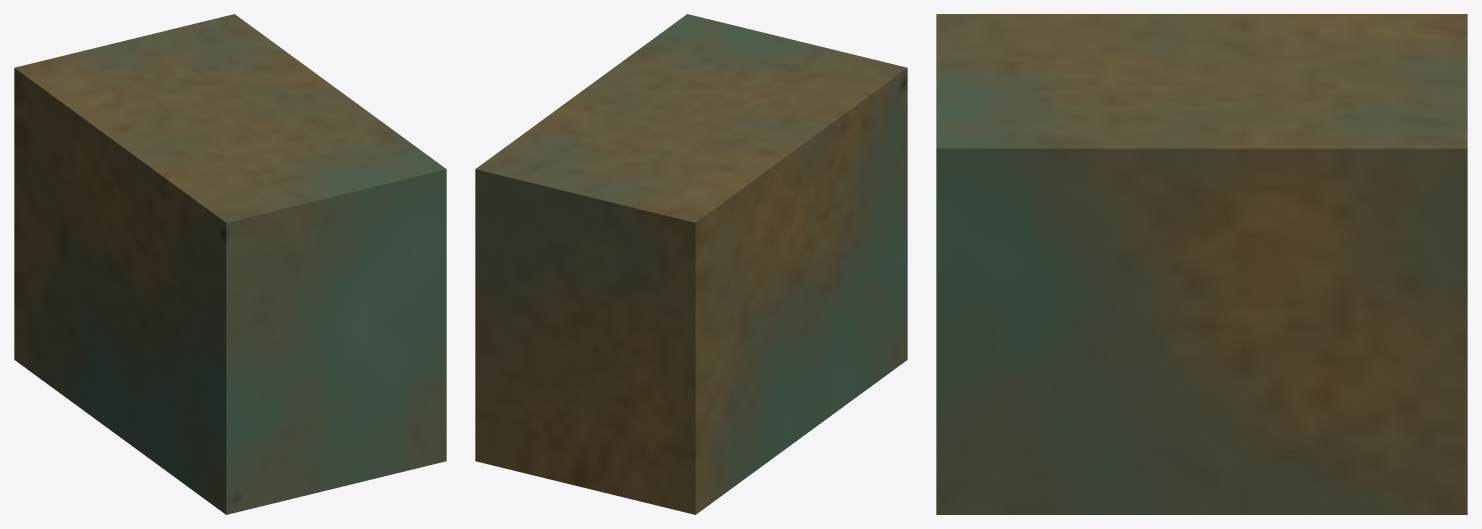
File: Rack bronze cap__n4.glb
3 renders of one model, left to right at view 1: azimuth 30°, elevation 25°; view 2: azimuth 150°, elevation 25°; view 3: azimuth 270°, elevation 25°, orthographic. The views are drawn at different scales.
Visible parts, largest first — view 1: Rack bronze cap; view 2: Rack bronze cap; view 3: Rack bronze cap.
Part boxes in pixels (x1,y1,x2,y2): Rack bronze cap: (14, 14, 446, 514); Rack bronze cap: (475, 14, 907, 514); Rack bronze cap: (936, 14, 1467, 514).
Bounding box in the file's own units: 0.15 × 0.19 × 0.25.
1 material, 1 textured.
